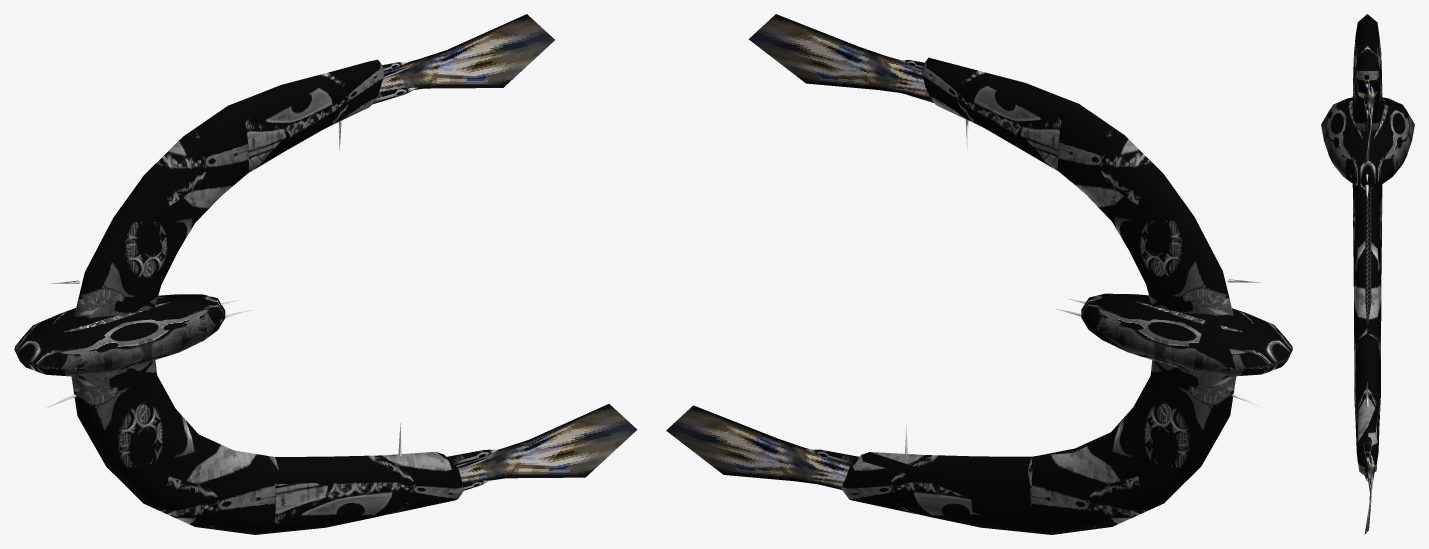
The model's file is jvc05.obj.
The picture shows the model from 3 angles, left to right: view 1: azimuth 30°, elevation 25°; view 2: azimuth 150°, elevation 25°; view 3: azimuth 270°, elevation 25°; orthographic projection. The views are drawn at different scales.
Parts seen in each view (by area): view 1: BODY0.002, POD0, GAS020, GAS010; view 2: BODY0.002, POD0, GAS010, GAS020; view 3: BODY0.002, POD0, GAS010, GAS020, ENG020.
Boxes of the visible parts, x1,y1,x2,y2 form: BODY0.002: (71,59,463,534); POD0: (14,294,225,376); GAS020: (456,404,637,483); GAS010: (379,14,554,92); BODY0.002: (841,57,1236,534); POD0: (1081,293,1292,376); GAS010: (748,14,931,100); GAS020: (666,405,850,489); BODY0.002: (1352,14,1382,475); POD0: (1321,97,1414,187); GAS010: (1364,83,1375,164); GAS020: (1364,454,1375,534); ENG020: (1363,436,1371,481).
Size of the model in its own units: 1145 by 840 by 183.
14 materials, 12 textured.
